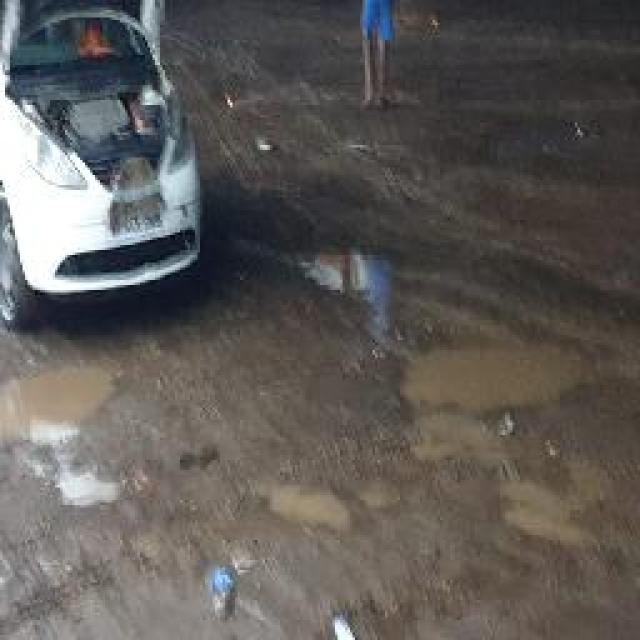waterlogging: (385, 332, 640, 446), (0, 348, 135, 464)
